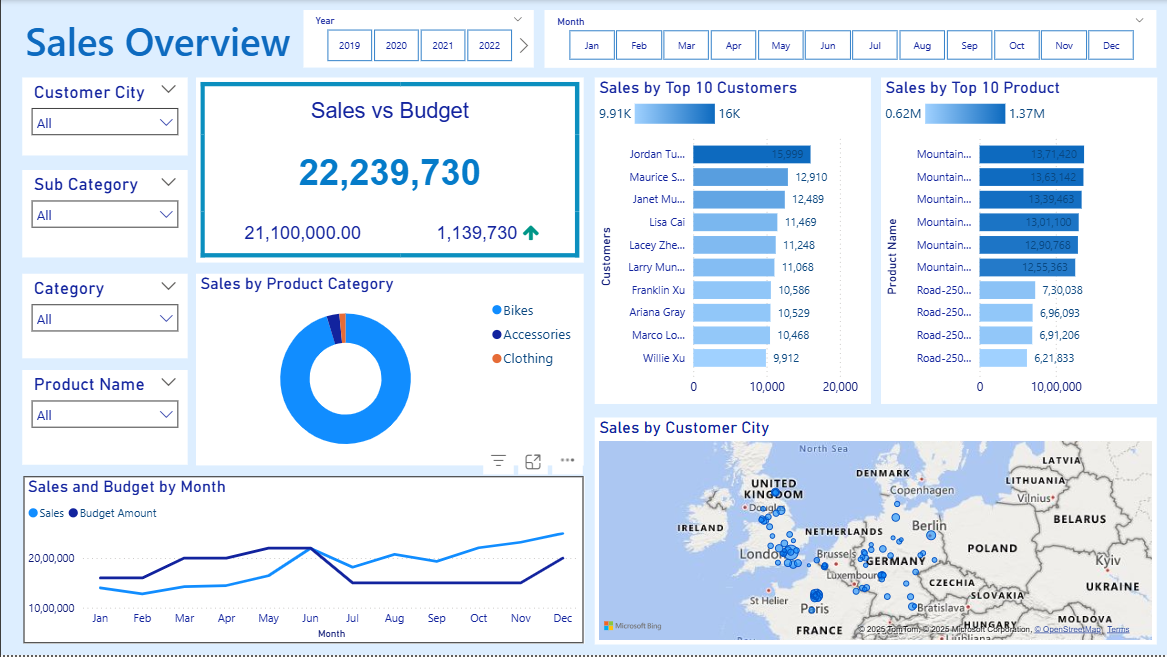

The dashboard page shown, as its layout file describes it:
{"tool":"powerbi","page":{"name":"Sales Overview","canvas":[1280,720],"ordinal":0},"visuals":[{"type":"textbox","box":[21.4,11.4,337.1,65.7],"z":0},{"type":"slicer","fields":{"Values":["DIM_Product.Product Name"]},"box":[22.9,405.7,181.4,104.3],"z":1000},{"type":"slicer","fields":{"Values":["DIM_Product.Product Category"]},"box":[22.9,300,181.4,92.9],"z":2000},{"type":"slicer","fields":{"Values":["DIM_Customer.Customer City"]},"box":[22.9,85.7,181.4,85.7],"z":3000},{"type":"slicer","fields":{"Values":["DIM_Product.Sub Category"]},"box":[22.9,187.1,181.4,95.7],"z":4000},{"type":"slicer","fields":{"Values":["DIM_Calender.Year"]},"box":[331.4,11.4,252.9,62.9],"z":5000},{"type":"slicer","fields":{"Values":["DIM_Calender.Monthshort"]},"box":[597.1,11.4,671.4,62.9],"z":6000},{"type":"BBED0A4D4D8D44CE93CF2DAFADEE466C","fields":{"actual":["Key Measures.Sales"],"target1":["Key Measures.Budget Amount"],"target2":["Key Measures.Sales - Budget"]},"box":[214.3,85.7,425.7,202.9],"z":7000},{"type":"donutChart","fields":{"Category":["DIM_Product.Product Category"],"Y":["Key Measures.Sales"]},"box":[214.3,300,425.7,210],"z":8000},{"type":"lineChart","title":"Sales and Budget  by Month","fields":{"Y":["Key Measures.Sales","Key Measures.Budget Amount"],"Category":["DIM_Calender.Monthshort"]},"box":[24.3,522.9,615.7,184.3],"z":9000},{"type":"clusteredBarChart","title":"Sales by Top 10 Customers","fields":{"Category":["DIM_Customer.Full Name"],"Y":["Key Measures.Sales"]},"box":[651.4,85.7,302.9,358.6],"z":10000},{"type":"clusteredBarChart","title":"Sales by Top 10 Product ","fields":{"Category":["DIM_Product.Product Name","DIM_Customer.Full Name"],"Y":["Key Measures.Sales"]},"box":[965.7,85.7,302.9,358.6],"z":11000},{"type":"map","fields":{"Category":["DIM_Customer.Customer City"],"Size":["Key Measures.Sales"]},"box":[651.4,458.6,617.1,248.6],"z":12000}]}

Visuals, with their boxes in screenshot pixels (x1, y1, x2, y2), scaled from the page's 1280x720 canvas onto the 1167x657 screenshot:
textbox: <box>20,10,327,70</box>
slicer - DIM_Product.Product Name: <box>21,370,186,465</box>
slicer - DIM_Product.Product Category: <box>21,274,186,359</box>
slicer - DIM_Customer.Customer City: <box>21,78,186,156</box>
slicer - DIM_Product.Sub Category: <box>21,171,186,258</box>
slicer - DIM_Calender.Year: <box>302,10,533,68</box>
slicer - DIM_Calender.Monthshort: <box>544,10,1157,68</box>
BBED0A4D4D8D44CE93CF2DAFADEE466C - Key Measures.Sales x Key Measures.Budget Amount: <box>195,78,584,263</box>
donutChart - DIM_Product.Product Category x Key Measures.Sales: <box>195,274,584,465</box>
"Sales and Budget  by Month" lineChart: <box>22,477,584,645</box>
"Sales by Top 10 Customers" clusteredBarChart: <box>594,78,870,405</box>
"Sales by Top 10 Product " clusteredBarChart: <box>880,78,1157,405</box>
map - DIM_Customer.Customer City x Key Measures.Sales: <box>594,418,1157,645</box>
